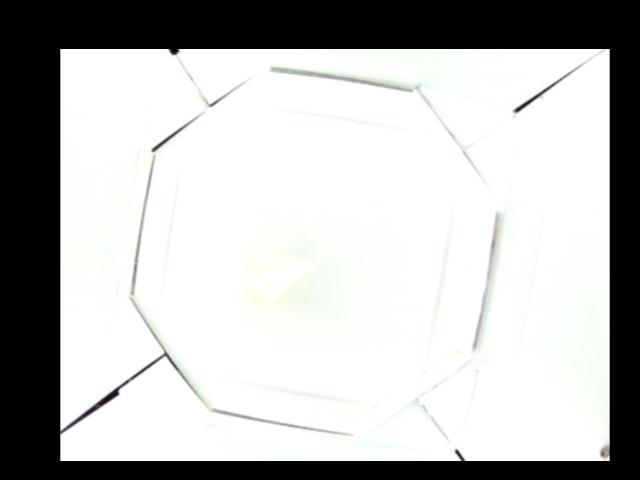Mooli: (237, 262, 314, 302)
